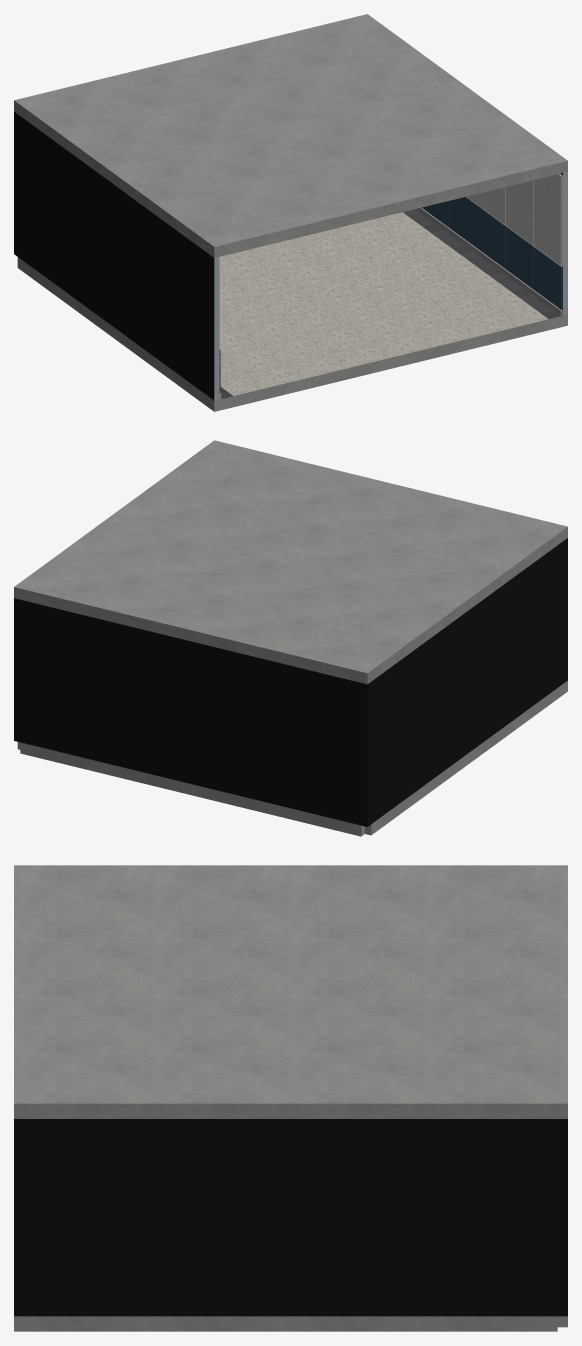
File: gteki_passage_end_w8.glb
3 renders of one model, top to bottom at view 1: azimuth 30°, elevation 25°; view 2: azimuth 150°, elevation 25°; view 3: azimuth 270°, elevation 25°, orthographic. The views are drawn at different scales.
Visible parts, largest first — view 1: VIS_ceiling, VIS_floor, VIS_walls; view 2: VIS_walls, VIS_ceiling, VIS_floor; view 3: VIS_ceiling, VIS_walls, VIS_floor.
Part boxes in pixels (x1=…): VIS_ceiling: x1=14, y1=14, x2=567, y2=257; VIS_floor: x1=17, y1=209, x2=567, y2=411; VIS_walls: x1=14, y1=111, x2=567, y2=400; VIS_walls: x1=14, y1=538, x2=567, y2=826; VIS_ceiling: x1=14, y1=440, x2=567, y2=684; VIS_floor: x1=17, y1=680, x2=567, y2=836; VIS_ceiling: x1=14, y1=865, x2=567, y2=1118; VIS_walls: x1=14, y1=1119, x2=567, y2=1316; VIS_floor: x1=14, y1=1316, x2=567, y2=1331.
Size of what is drawn, in the model's own units: 8.3 by 3.7 by 8.15.
Materials: 10 (6 with a texture image).
